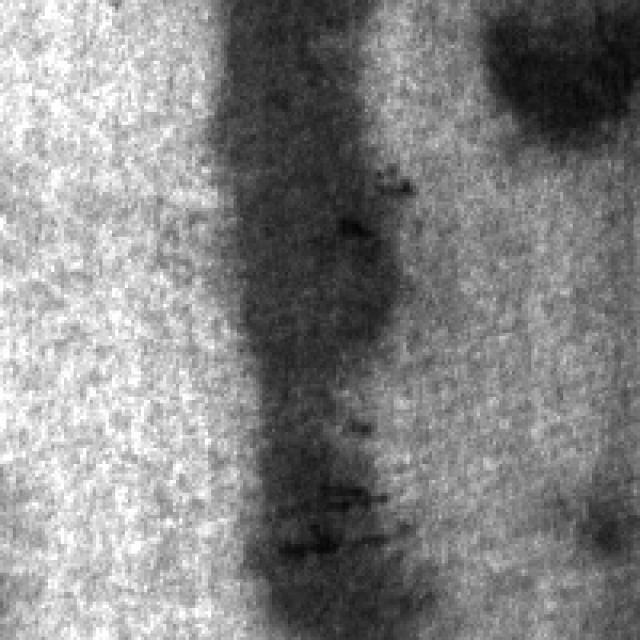patches: (202, 0, 403, 429), (230, 400, 429, 637), (470, 0, 637, 144)
